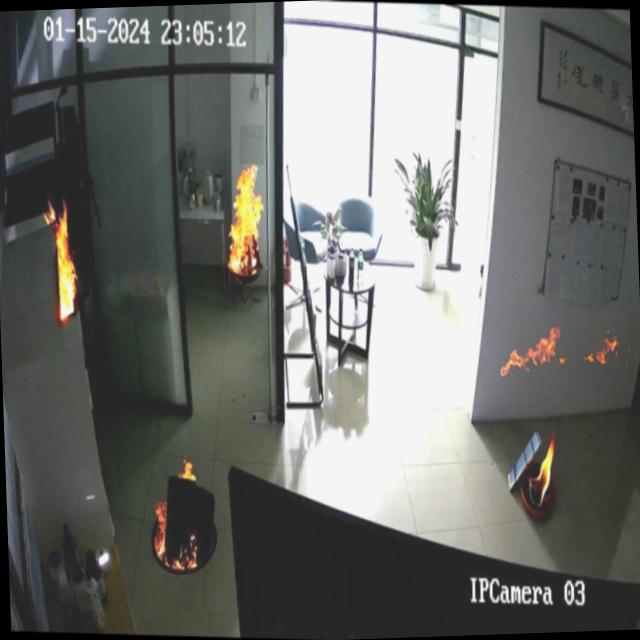fire: (494, 308, 624, 392), (148, 461, 219, 600), (223, 153, 285, 305), (39, 187, 94, 339), (526, 423, 560, 538)
